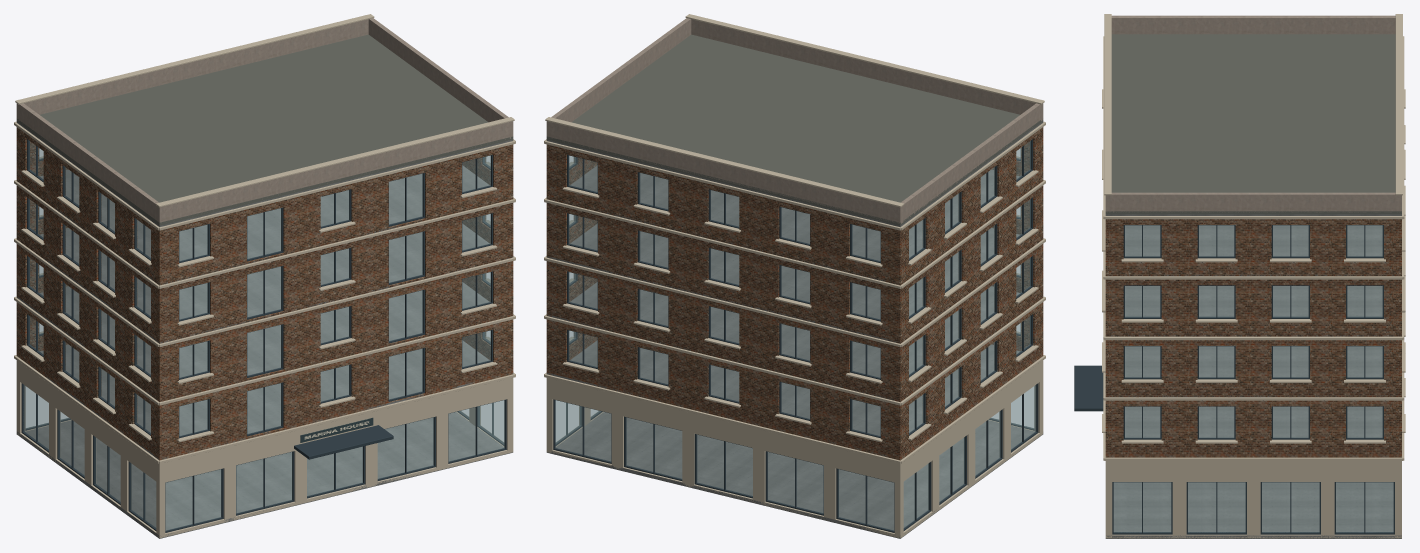
File: marina-house-v2-lod1.glb
The picture shows the model from 3 angles, left to right: view 1: azimuth 30°, elevation 25°; view 2: azimuth 150°, elevation 25°; view 3: azimuth 270°, elevation 25°; orthographic projection. The views are drawn at different scales.
Parts seen in each view (by area): view 1: Brick (×12), Recessed_clear_glass (×12), Concrete, Roof_membrane, Limestone (×12), Plaster, Powder_coated_aluminium (×11), Building_sign_ink; view 2: Brick (×11), Recessed_clear_glass (×12), Roof_membrane, Concrete, Limestone (×11), Plaster, Powder_coated_aluminium (×10); view 3: Roof_membrane, Brick (×5), Concrete, Recessed_clear_glass (×5), Limestone (×10), Plaster, Powder_coated_aluminium (×6).
Part boxes in pixels (<box>): Brick (×12): <box>16,127,513,460</box>; Recessed_clear_glass (×12): <box>24,141,504,530</box>; Concrete: <box>16,121,513,538</box>; Roof_membrane: <box>16,34,513,225</box>; Limestone (×12): <box>14,14,515,538</box>; Plaster: <box>16,18,513,222</box>; Powder_coated_aluminium (×11): <box>21,139,506,532</box>; Building_sign_ink: <box>300,417,373,442</box>; Brick (×11): <box>546,127,1043,460</box>; Recessed_clear_glass (×12): <box>555,141,1035,530</box>; Roof_membrane: <box>546,34,1043,226</box>; Concrete: <box>546,121,1043,538</box>; Limestone (×11): <box>544,14,1045,538</box>; Plaster: <box>546,18,1043,223</box>; Powder_coated_aluminium (×10): <box>553,139,1038,532</box>; Roof_membrane: <box>1105,34,1401,214</box>; Brick (×5): <box>1105,219,1401,457</box>; Concrete: <box>1105,214,1401,538</box>; Recessed_clear_glass (×5): <box>1114,225,1393,532</box>; Limestone (×10): <box>1102,14,1405,538</box>; Plaster: <box>1105,15,1401,212</box>; Powder_coated_aluminium (×6): <box>1074,225,1394,534</box>.
Bounding box in the file's own units: 20.34 × 18.01 × 15.64.
8 materials, 4 textured.
